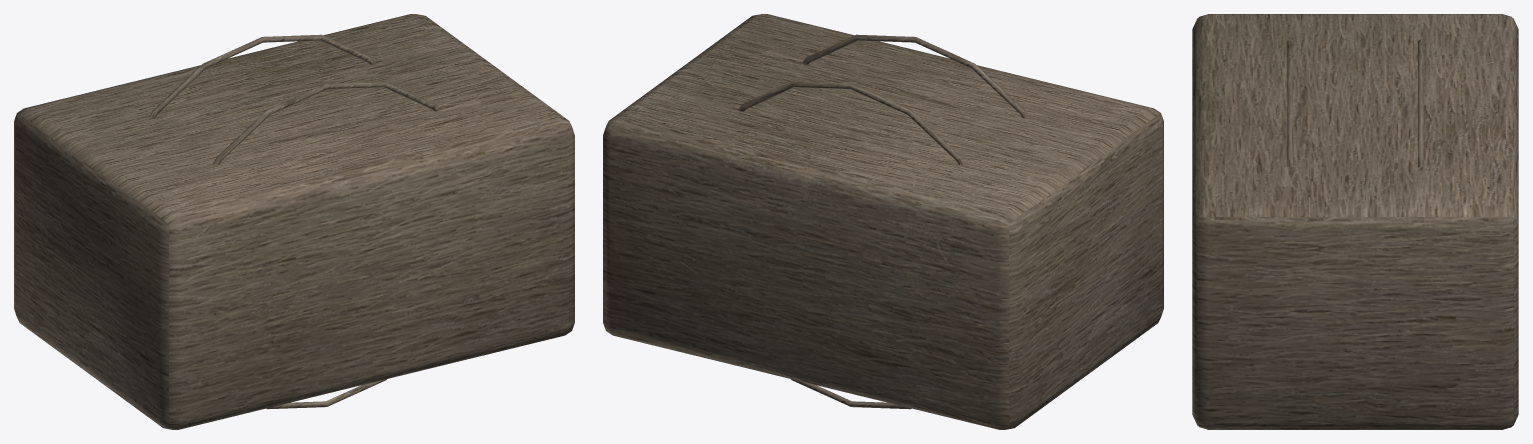
The model's file is hay_bale.fbx.
The picture shows the model from 3 angles, left to right: view 1: azimuth 30°, elevation 25°; view 2: azimuth 150°, elevation 25°; view 3: azimuth 270°, elevation 25°; orthographic projection. The views are drawn at different scales.
Parts seen in each view (by area): view 1: hay_bale; view 2: hay_bale; view 3: hay_bale.
Part boxes in pixels (x1,y1,x2,y2): hay_bale: (14, 14, 574, 429); hay_bale: (603, 14, 1163, 429); hay_bale: (1192, 14, 1518, 429).
Bounding box in the file's own units: 0.6 × 0.448 × 0.4.
1 material, 1 textured.
